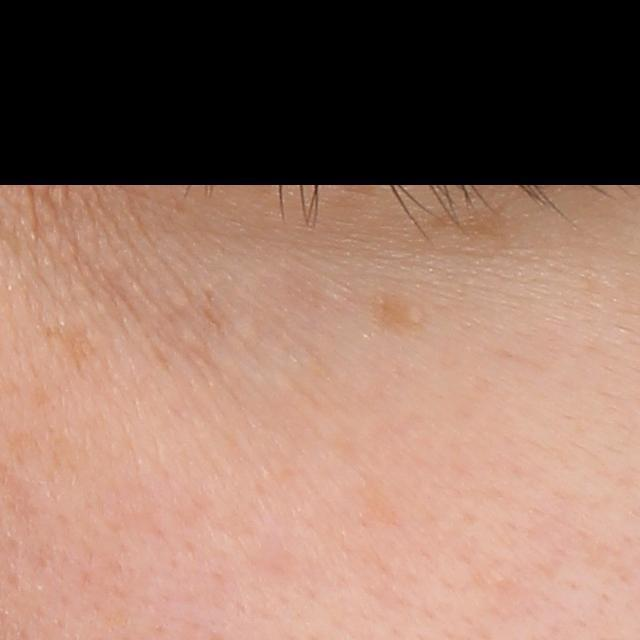melasma: (424, 205, 510, 258), (45, 325, 94, 377)
